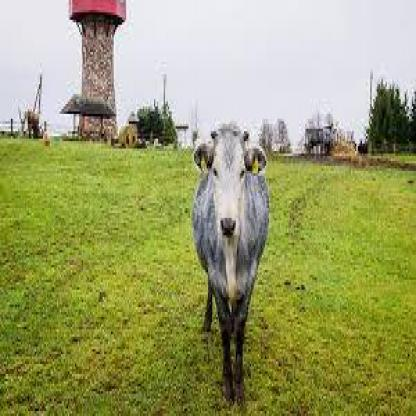cow: (192, 122, 270, 405)
